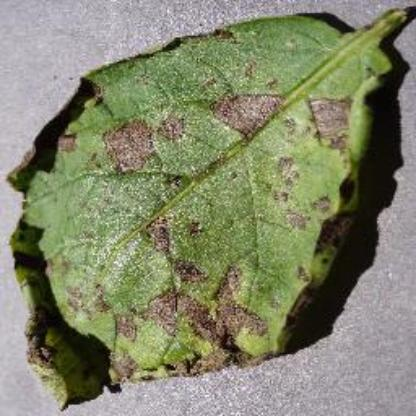Early-Blight: (10, 8, 416, 408)
